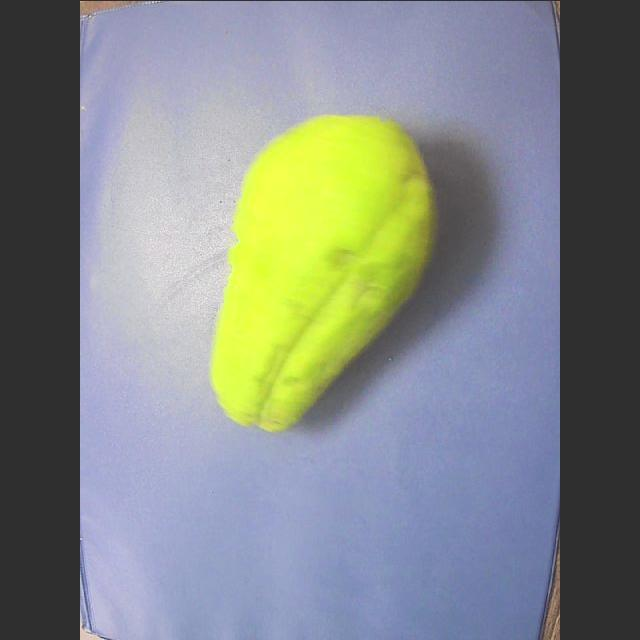chayote: (210, 115, 435, 430)
